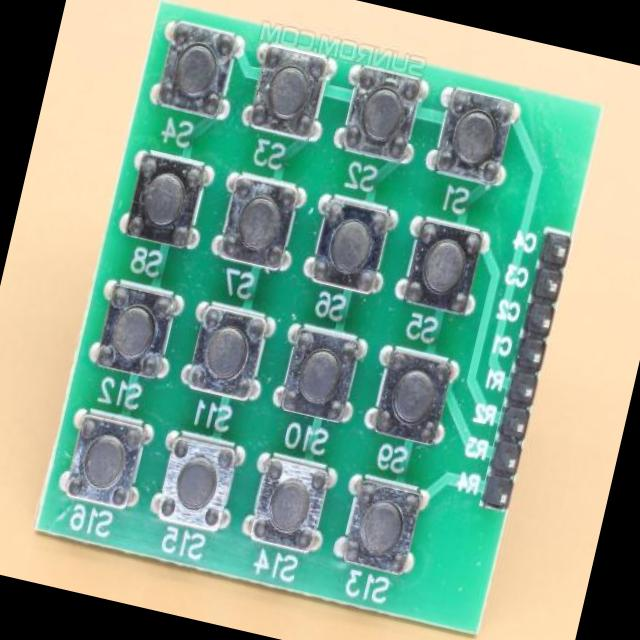connector: (486, 231, 578, 503)
